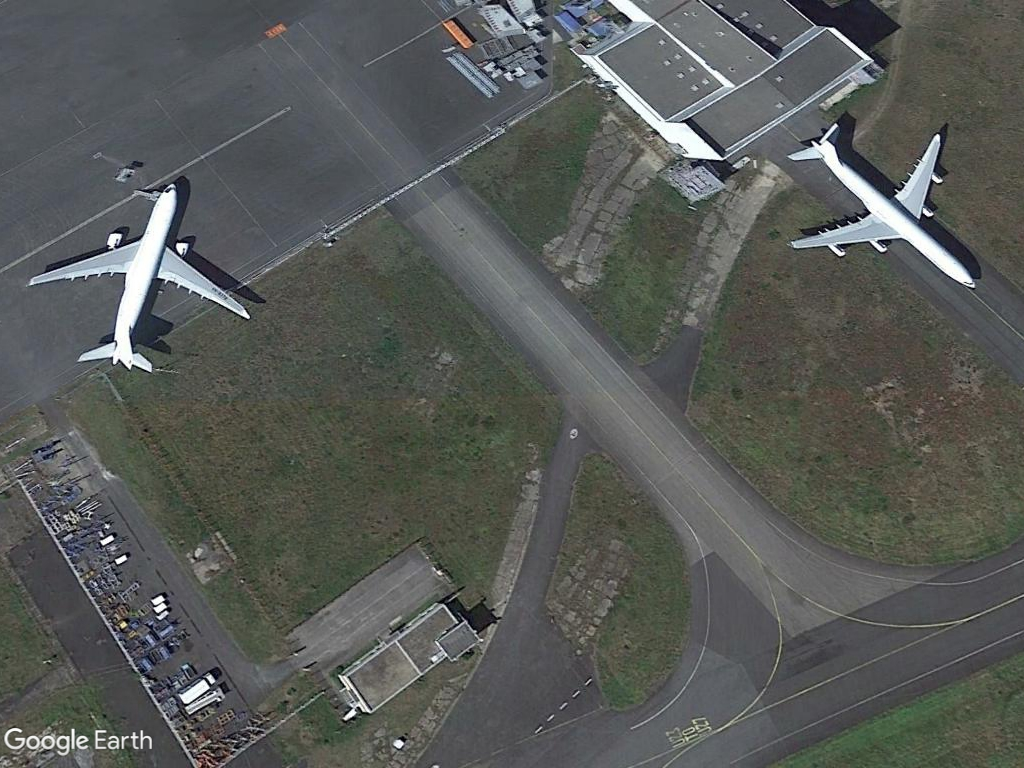airliner: (25, 179, 254, 378), (778, 118, 980, 291)
